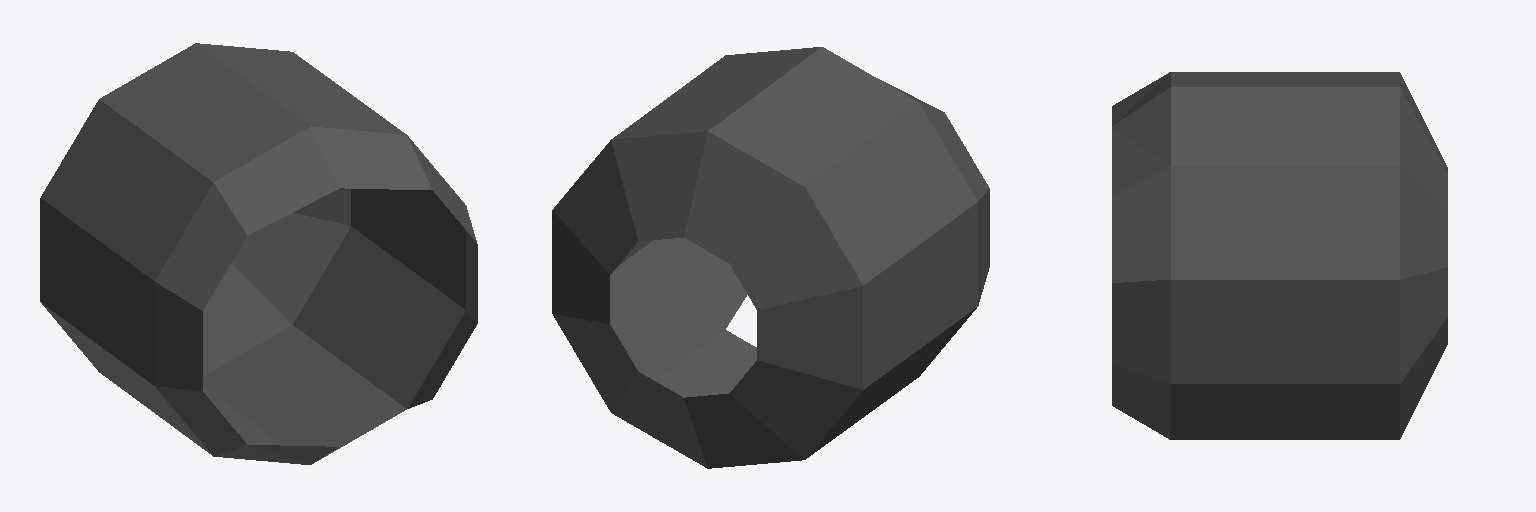
The model's file is iss.out.F.obj.
3 renders of one model, left to right at view 1: azimuth 30°, elevation 25°; view 2: azimuth 150°, elevation 25°; view 3: azimuth 270°, elevation 25°, orthographic.
Bounding box in the file's own units: 0 × 0 × 0.